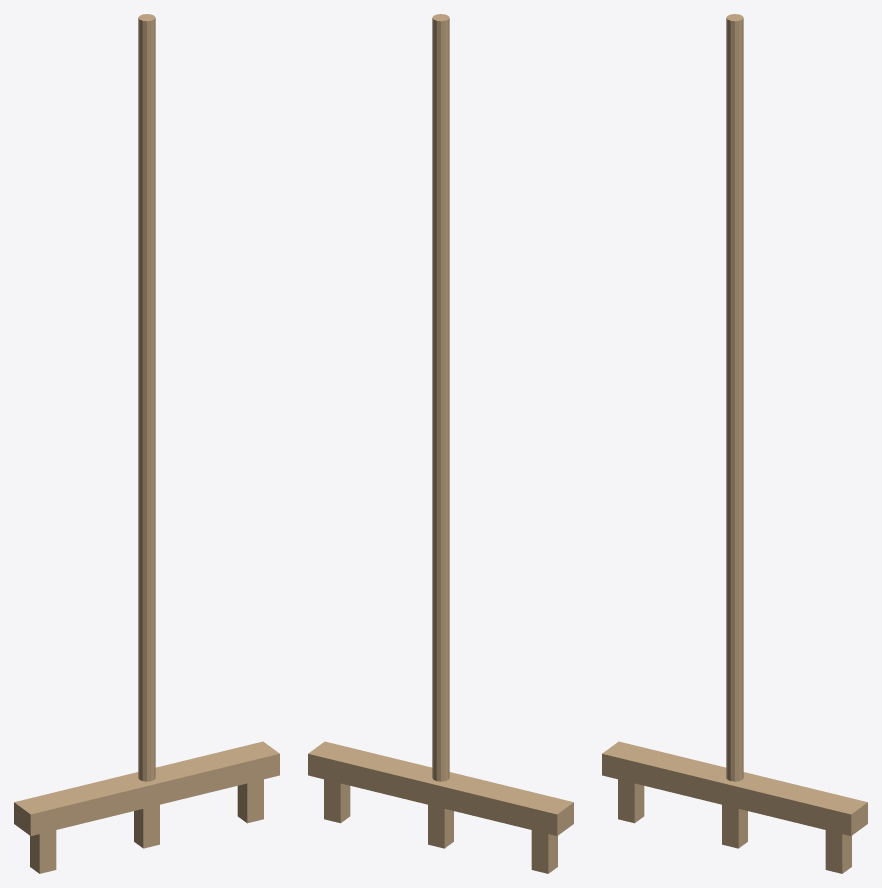
Rendered from feudal-japan-castle-town-garden-rake-1210525c__26403.glb.
3 views of the same model, side by side, from view 1: azimuth 30°, elevation 25°; view 2: azimuth 150°, elevation 25°; view 3: azimuth 330°, elevation 25° (orthographic).
Visible parts, largest first — view 1: garden-rake; view 2: garden-rake; view 3: garden-rake.
Part boxes in pixels (left/top/right/bottom): garden-rake: left=14, top=14, right=279, bottom=873; garden-rake: left=308, top=14, right=573, bottom=873; garden-rake: left=602, top=14, right=867, bottom=873.
Size of the model in its own units: 0.6001 by 1.9 by 0.07.
